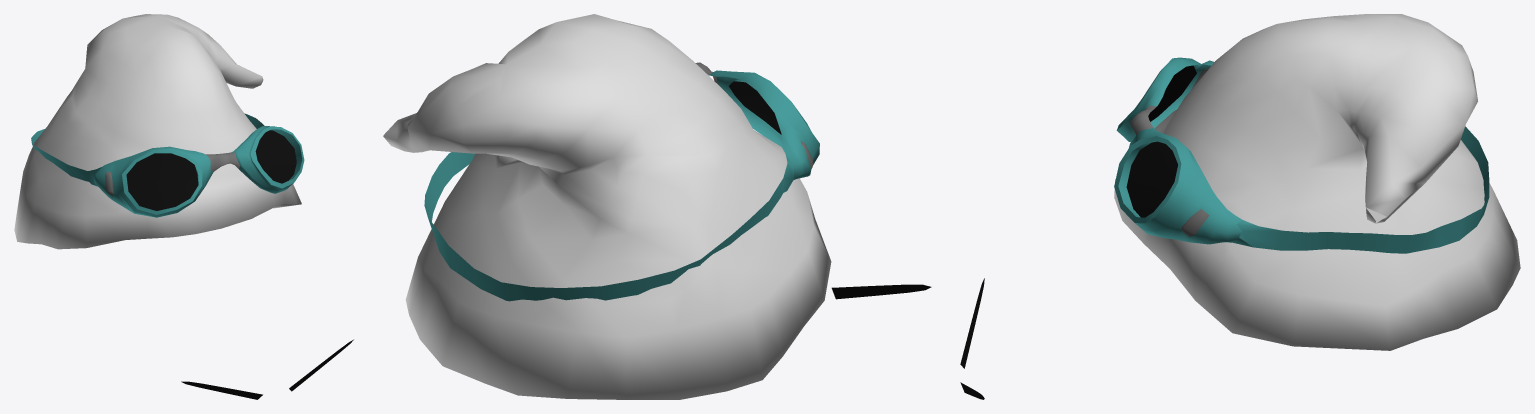
File: MSH_Sportacus.FBX
3 views of the same model, side by side, from view 1: azimuth 30°, elevation 25°; view 2: azimuth 150°, elevation 25°; view 3: azimuth 270°, elevation 25° (orthographic). The views are drawn at different scales.
Visible parts, largest first — view 1: Msh_Sportacus, MSH_goggles, MSH_SportMustache; view 2: Msh_Sportacus, MSH_goggles, MSH_SportMustache; view 3: Msh_Sportacus, MSH_goggles, MSH_SportMustache.
Boxes of the visible parts, bbox=[...] form: Msh_Sportacus: bbox=[14, 14, 301, 249]; MSH_goggles: bbox=[31, 113, 304, 217]; MSH_SportMustache: bbox=[181, 339, 353, 399]; Msh_Sportacus: bbox=[383, 14, 831, 399]; MSH_goggles: bbox=[424, 62, 819, 301]; MSH_SportMustache: bbox=[831, 284, 931, 299]; Msh_Sportacus: bbox=[1114, 14, 1520, 350]; MSH_goggles: bbox=[1114, 57, 1489, 253]; MSH_SportMustache: bbox=[960, 278, 984, 399].
Size of the model in its own units: 20.34 by 20.45 by 27.93.
